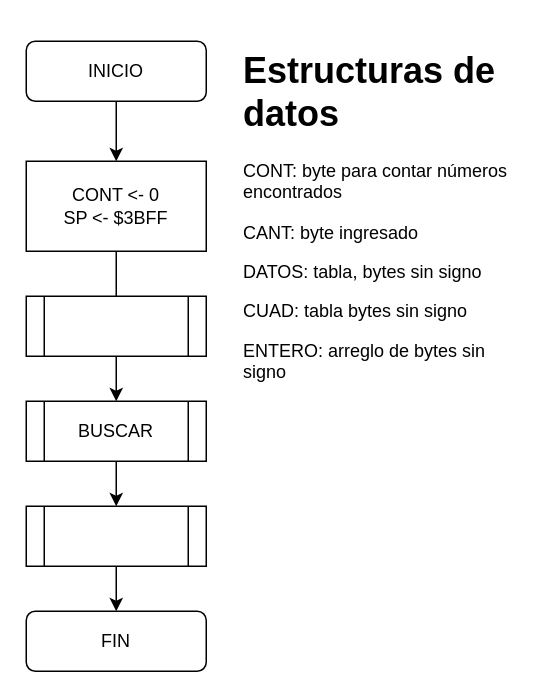
The diagram is 548 pixels wide and 698 high, and some of its shapes have lost their labels. Each missing label, with the box of its shape:
LEER_CANT: (25, 295, 206, 356)
PRINT_RESULT: (25, 505, 206, 566)
